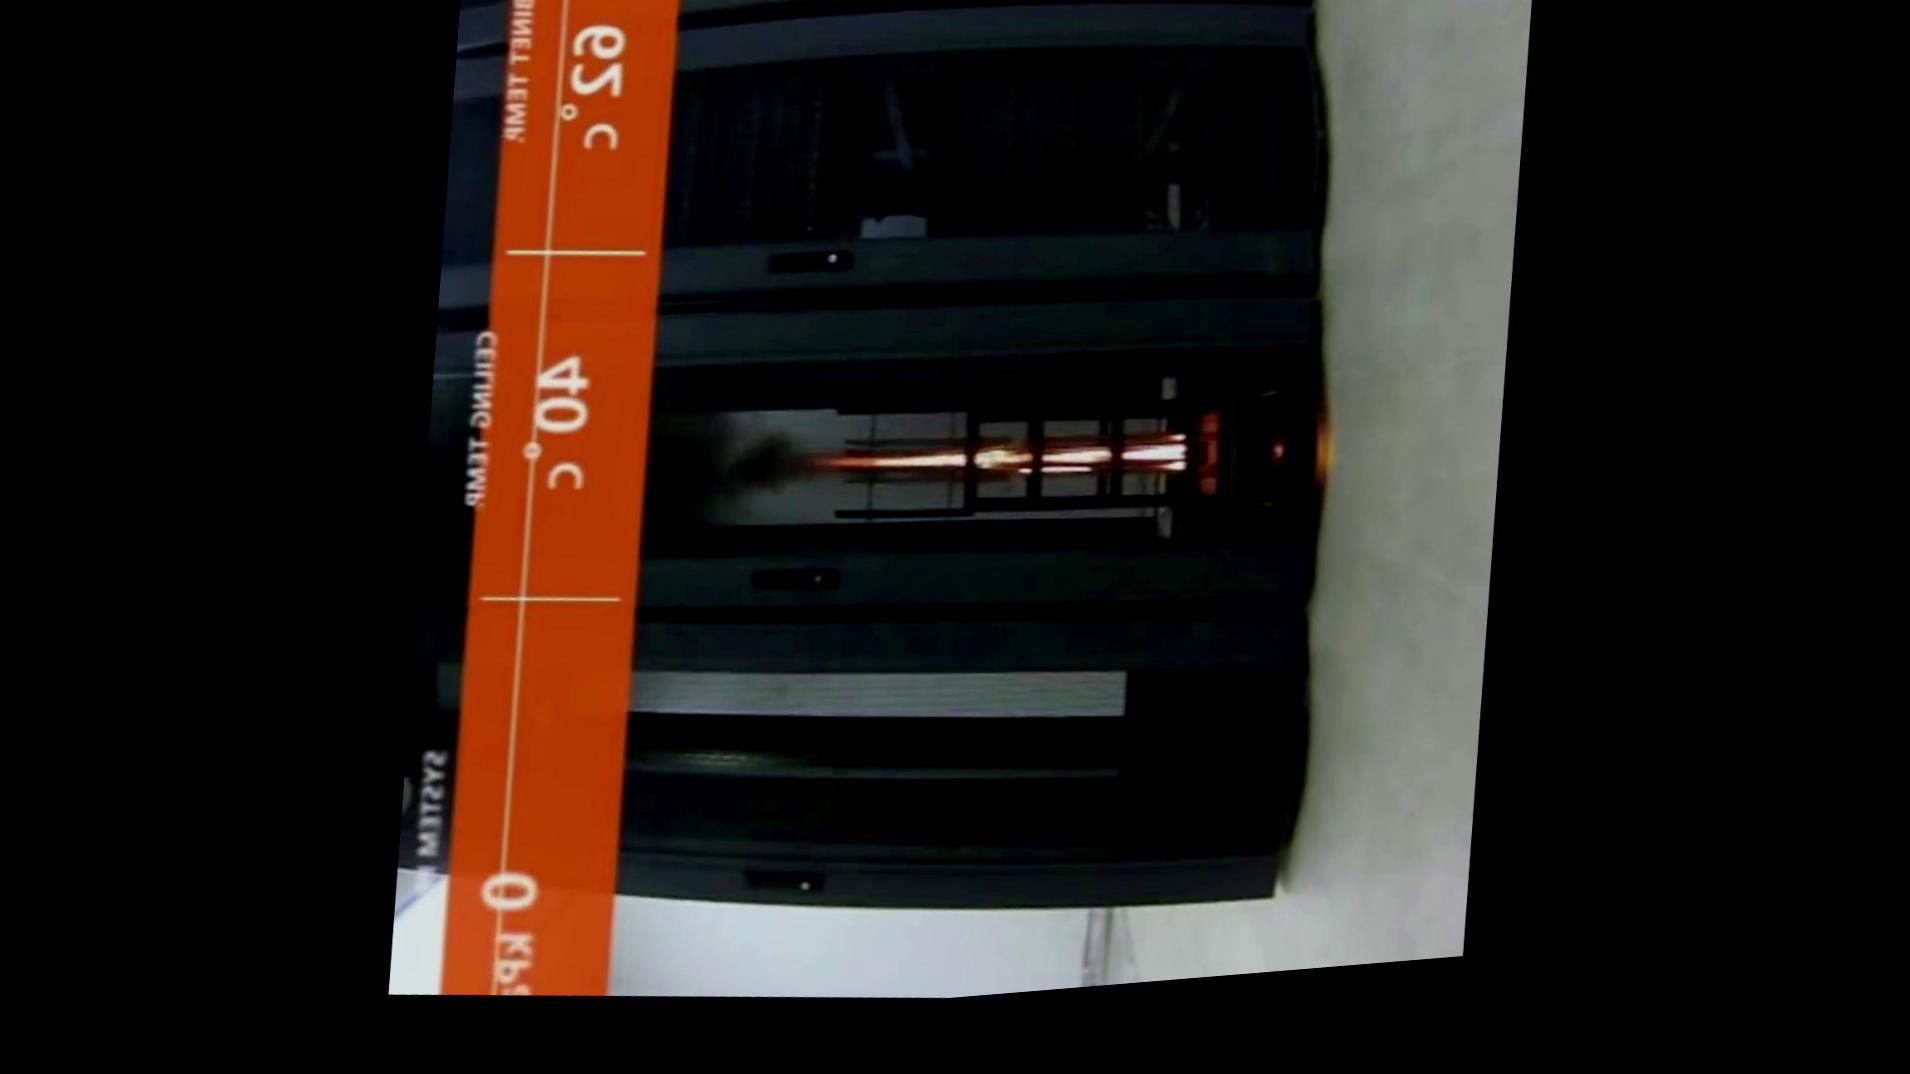fire: (669, 371, 1332, 572)
